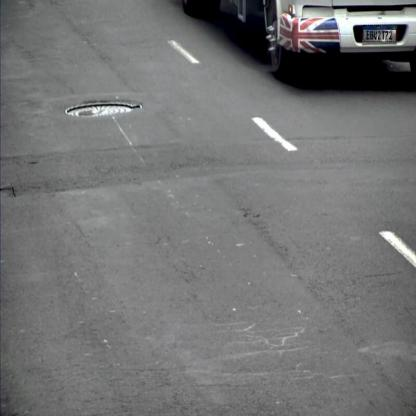PlacaM: (363, 25, 396, 42)
